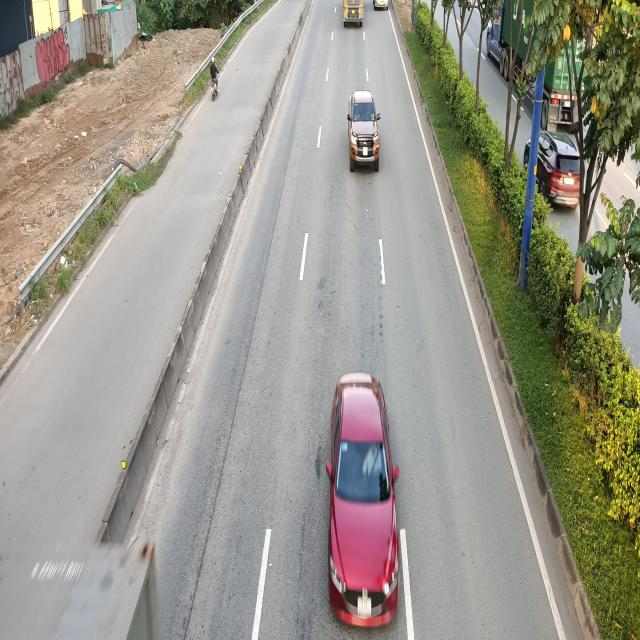car: (325, 371, 408, 628), (346, 93, 381, 172)
